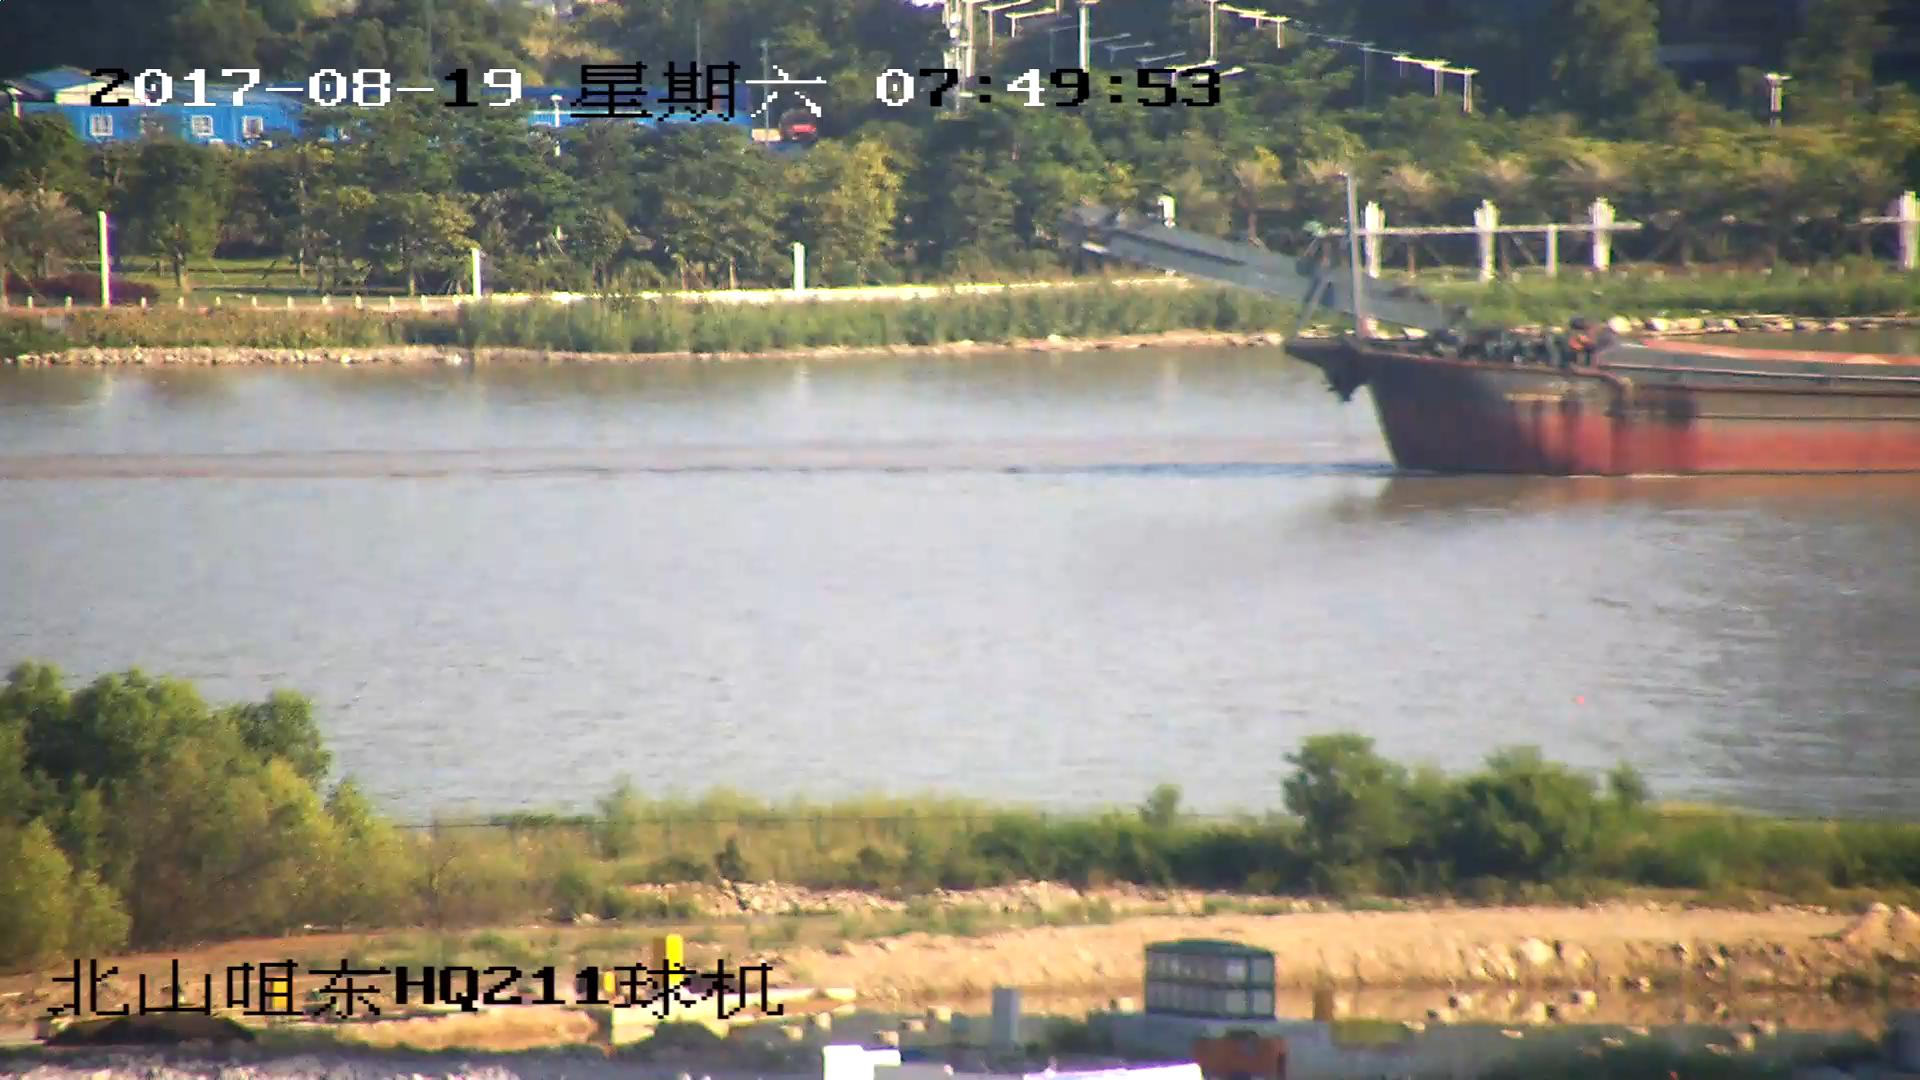bulk cargo carrier: (1071, 192, 1920, 479)
